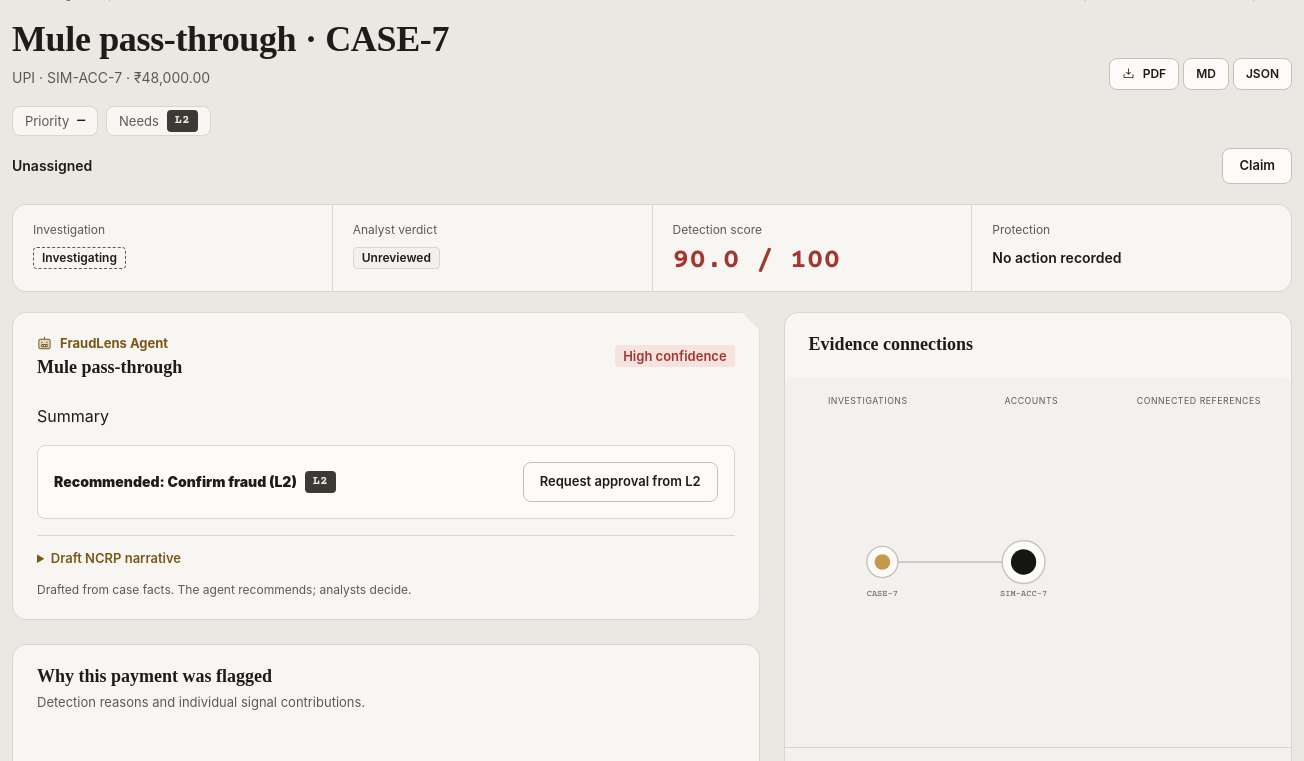
Scenario: keeps the approval request and its notes open when the request fails
This screenshot has width=1304, height=761.
Click the button "Request approval from L2".
click(620, 482)  # box x1=523 y1=462 x2=718 y2=502
(page scrolled)
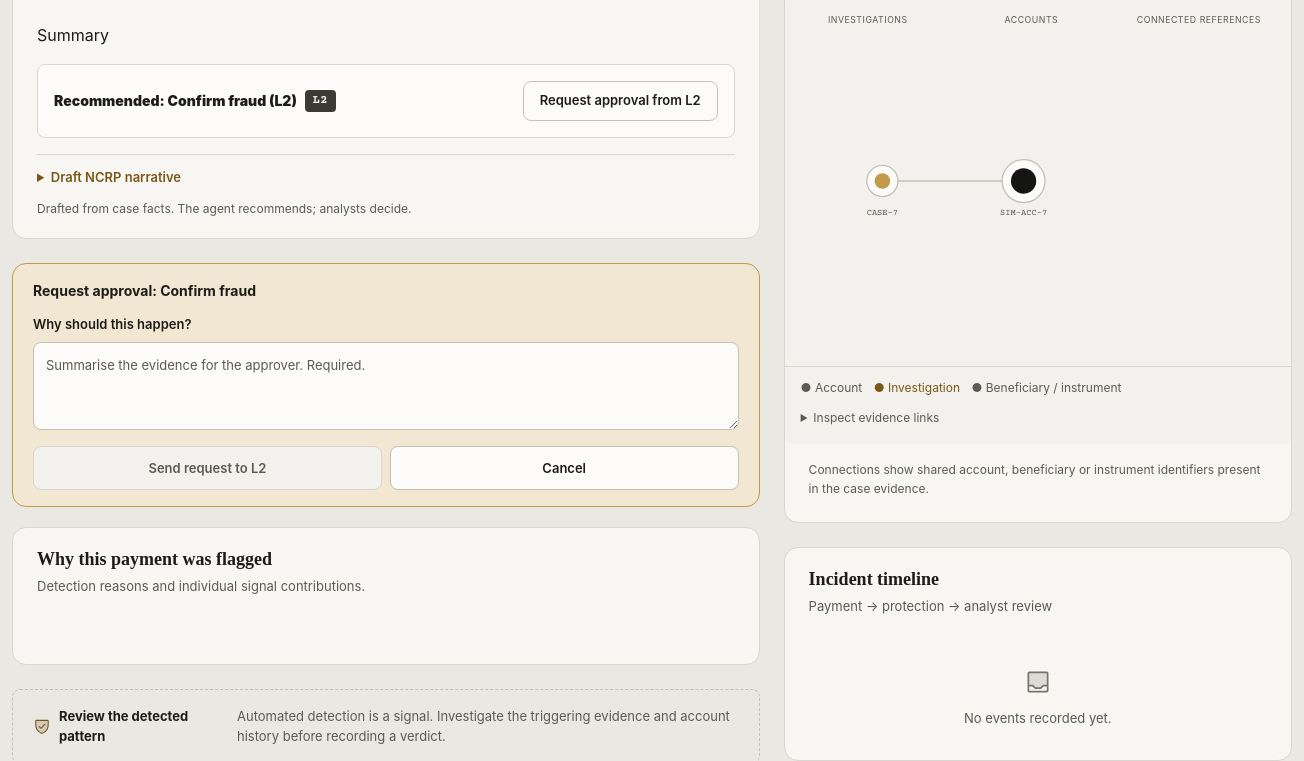
Type "Funds left within minutes" into the text box labelled "Why should this happen?".
click(386, 386); type("Funds left within minutes")  # box x1=33 y1=342 x2=739 y2=430
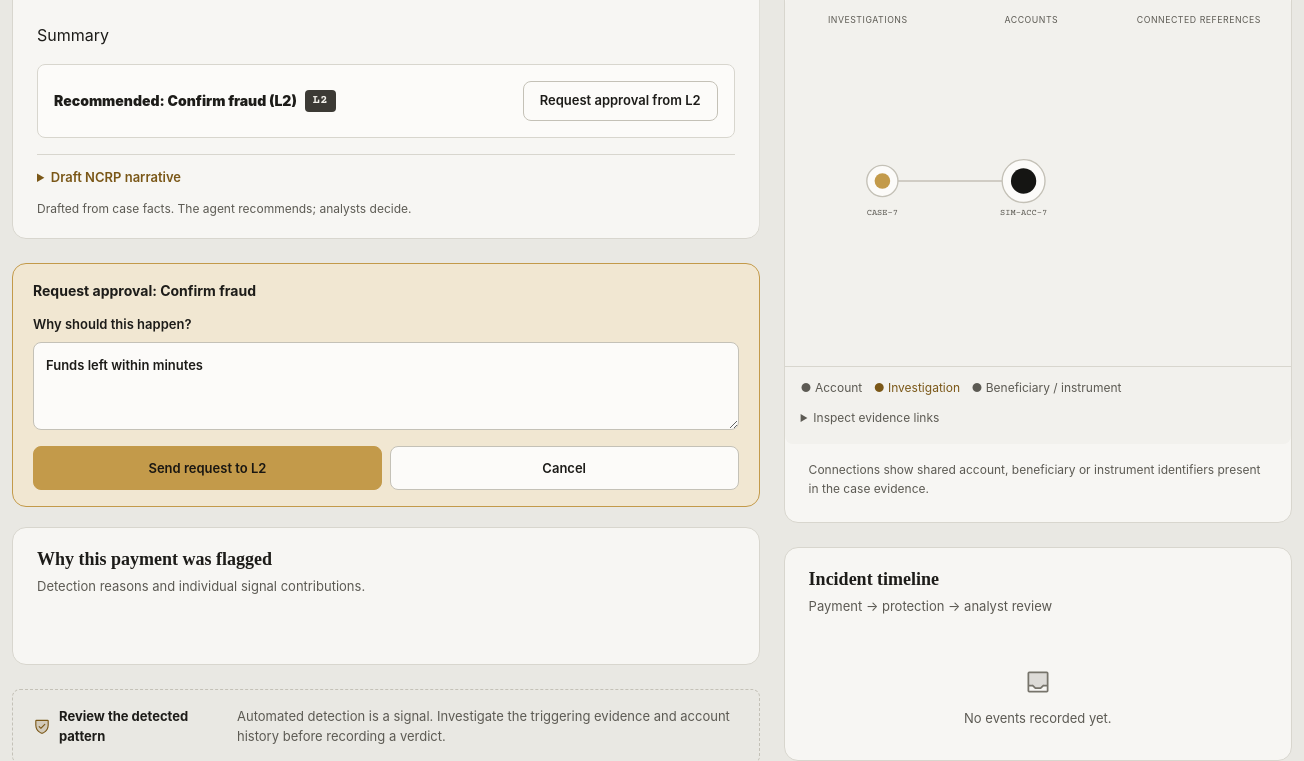
Click the button "Send request to L2".
click(207, 468)  # box x1=33 y1=446 x2=382 y2=490
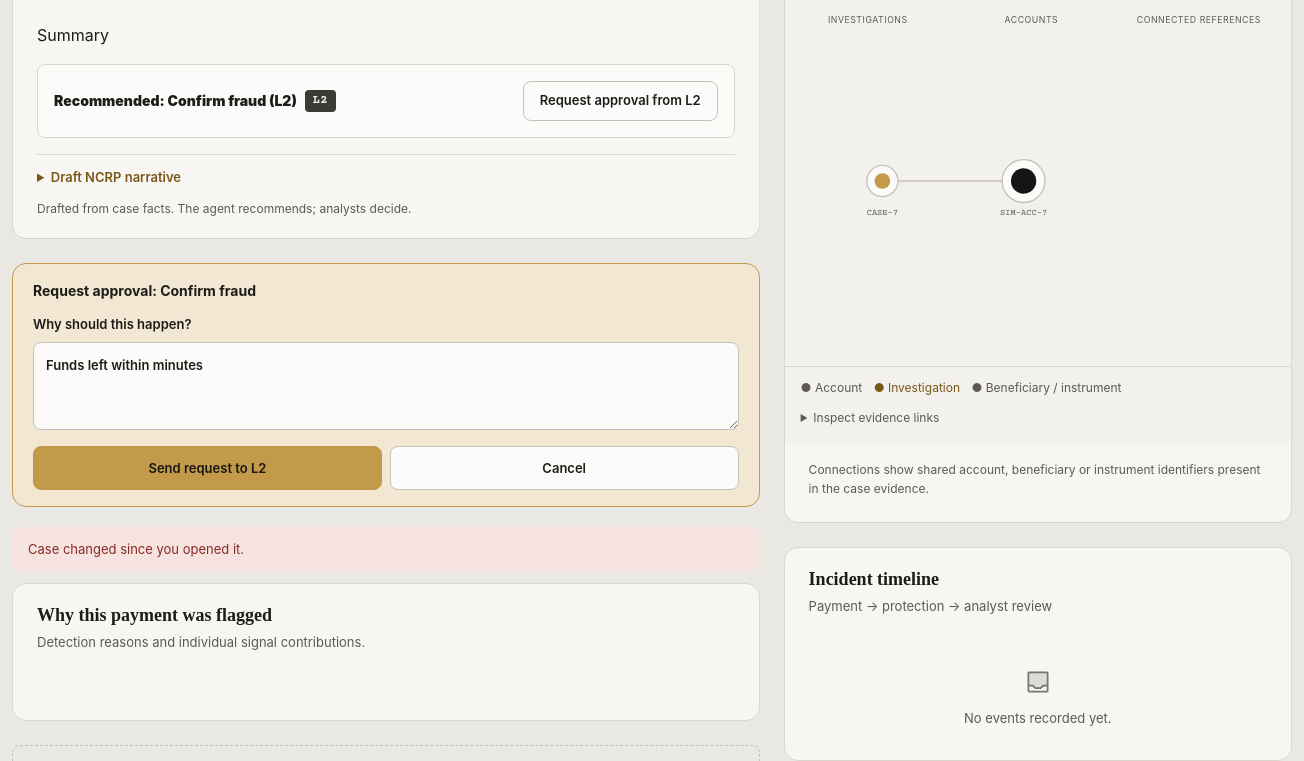
Now the text "Case changed since you opened it." is shown, box x1=12 y1=527 x2=760 y2=571
